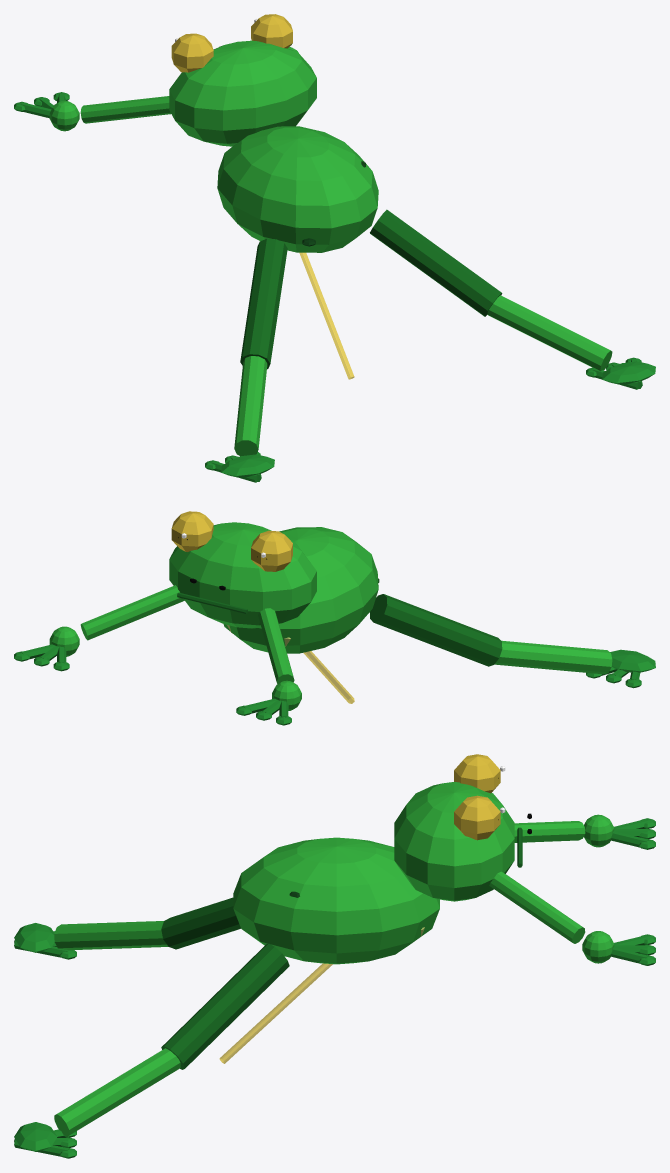
The model's file is frog_mid_jump.obj.
3 renders of one model, top to bottom at view 1: azimuth 30°, elevation 25°; view 2: azimuth 150°, elevation 25°; view 3: azimuth 270°, elevation 25°, orthographic. The views are drawn at different scales.
Visible parts, largest first — view 1: Body_stretched_airborne_green, Head_forward_midjump_green, Right_rear_thigh_extended, Left_rear_thigh_extended, Right_rear_lower_leg_extended, Left_rear_lower_leg_extended, Left_front_arm_reaching, Eye_bulge_1, Eye_bulge_2, Guide_Jump_Direction_Arc_delete_or_hide, Left_rear_foot_kicked_back, Right_rear_foot_kicked_back (+1 smaller); view 2: Head_forward_midjump_green, Body_stretched_airborne_green, Left_rear_thigh_extended, Left_rear_lower_leg_extended, Right_front_arm_reaching, Eye_bulge_1, Left_front_arm_reaching, Eye_bulge_2, Left_rear_foot_kicked_back, Right_front_hand_spread, Left_front_hand_spread, Guide_Jump_Direction_Arc_delete_or_hide (+1 smaller); view 3: Body_stretched_airborne_green, Head_forward_midjump_green, Right_rear_thigh_extended, Right_rear_lower_leg_extended, Left_rear_lower_leg_extended, Left_rear_thigh_extended, Right_front_arm_reaching, Eye_bulge_2, Left_front_arm_reaching, Eye_bulge_1, Guide_Jump_Direction_Arc_delete_or_hide, Right_rear_foot_kicked_back (+3 smaller).
Boxes of the visible parts, <box> form: Body_stretched_airborne_green: <box>217,126,378,252</box>; Head_forward_midjump_green: <box>169,40,316,146</box>; Right_rear_thigh_extended: <box>370,209,502,316</box>; Left_rear_thigh_extended: <box>240,238,287,369</box>; Right_rear_lower_leg_extended: <box>487,295,612,371</box>; Left_rear_lower_leg_extended: <box>234,356,267,456</box>; Left_front_arm_reaching: <box>80,96,170,123</box>; Eye_bulge_1: <box>171,33,213,72</box>; Eye_bulge_2: <box>251,14,292,48</box>; Guide_Jump_Direction_Arc_delete_or_hide: <box>299,252,354,379</box>; Left_rear_foot_kicked_back: <box>221,454,274,477</box>; Right_rear_foot_kicked_back: <box>602,361,655,384</box>; Head_forward_midjump_green: <box>169,522,316,628</box>; Body_stretched_airborne_green: <box>223,527,378,653</box>; Left_rear_thigh_extended: <box>369,594,502,666</box>; Left_rear_lower_leg_extended: <box>494,640,612,674</box>; Right_front_arm_reaching: <box>80,585,184,640</box>; Eye_bulge_1: <box>251,530,292,571</box>; Left_front_arm_reaching: <box>258,608,294,684</box>; Eye_bulge_2: <box>171,511,213,551</box>; Left_rear_foot_kicked_back: <box>610,649,655,672</box>; Right_front_hand_spread: <box>49,626,79,656</box>; Left_front_hand_spread: <box>272,680,301,710</box>; Guide_Jump_Direction_Arc_delete_or_hide: <box>303,651,354,703</box>; Body_stretched_airborne_green: <box>233,837,439,964</box>; Head_forward_midjump_green: <box>394,782,514,901</box>; Right_rear_thigh_extended: <box>161,943,289,1069</box>; Right_rear_lower_leg_extended: <box>54,1048,180,1136</box>; Left_rear_lower_leg_extended: <box>54,921,168,950</box>; Left_rear_thigh_extended: <box>161,897,240,949</box>; Right_front_arm_reaching: <box>489,871,585,943</box>; Eye_bulge_2: <box>454,795,500,840</box>; Left_front_arm_reaching: <box>514,821,585,842</box>; Eye_bulge_1: <box>454,754,500,793</box>; Guide_Jump_Direction_Arc_delete_or_hide: <box>219,963,332,1063</box>; Right_rear_foot_kicked_back: <box>14,1122,57,1151</box>.
Bounding box in the file's own units: 1.65 × 0.9648 × 1.96.
